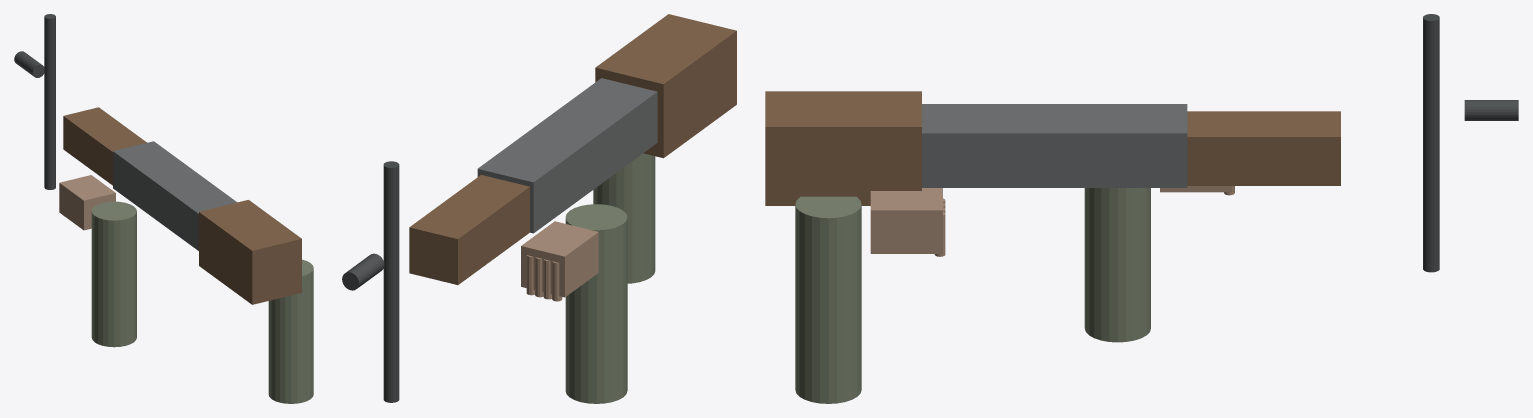
Rendered from fp_service_rifle.glb.
3 views of the same model, side by side, from view 1: azimuth 30°, elevation 25°; view 2: azimuth 150°, elevation 25°; view 3: azimuth 270°, elevation 25° (orthographic). The views are drawn at different scales.
Visible parts, largest first — view 1: Stock, Receiver, Sleeve1, Sleeve0, ForeStock, Barrel, Hand1, FrontSight; view 2: Receiver, Stock, Sleeve1, ForeStock, Sleeve0, Barrel, Hand1, FrontSight; view 3: Receiver, Stock, Sleeve0, ForeStock, Sleeve1, Hand0, Barrel, FrontSight.
Part boxes in pixels (x1,y1,x2,y2): Stock: (199,200,301,304); Receiver: (113,141,237,250); Sleeve1: (91,201,136,347); Sleeve0: (268,259,313,403); ForeStock: (63,107,146,185); Barrel: (44,14,55,189); Hand1: (59,175,115,230); FrontSight: (14,51,44,77); Receiver: (477,78,657,233); Stock: (595,14,736,158); Sleeve1: (565,204,627,403); ForeStock: (409,175,529,284); Sleeve0: (593,153,655,283); Barrel: (383,161,399,402); Hand1: (521,221,598,297); FrontSight: (342,253,384,290); Receiver: (922,104,1187,187); Stock: (765,91,921,205); Sleeve0: (795,196,861,403); ForeStock: (1187,111,1340,185); Sleeve1: (1084,188,1150,342); Hand0: (870,188,942,253); Barrel: (1423,14,1439,272); FrontSight: (1464,100,1518,120).
Size of the model in its own units: 0.66 by 1.27 by 2.5.
